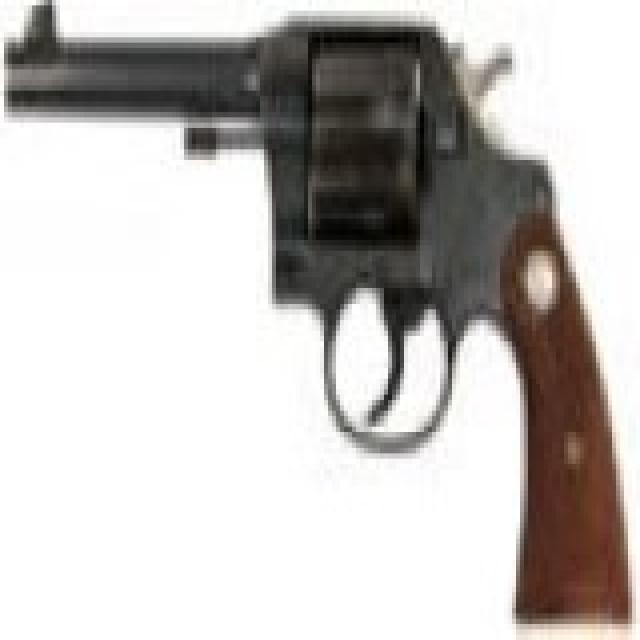Gun: (3, 9, 627, 616)
